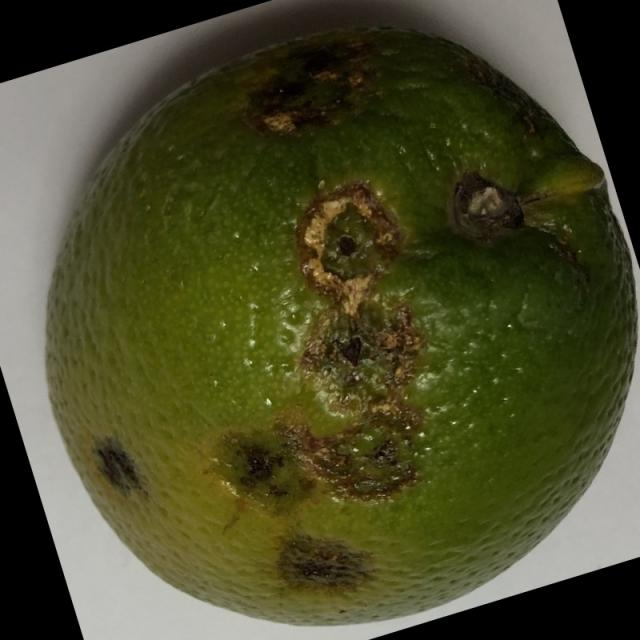canker: (24, 22, 640, 640)
